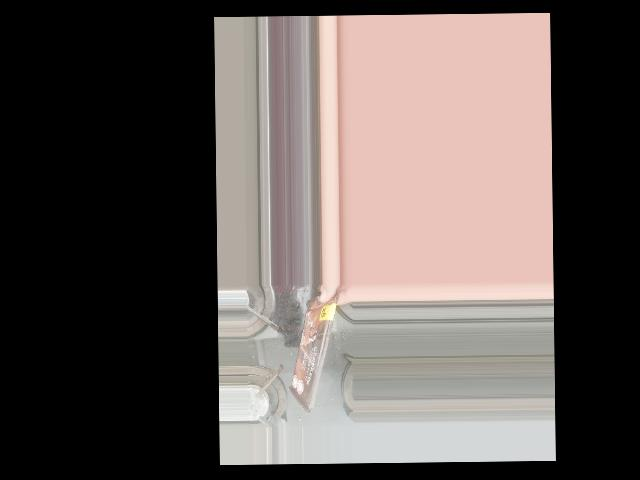chocolate: (288, 296, 339, 412)
